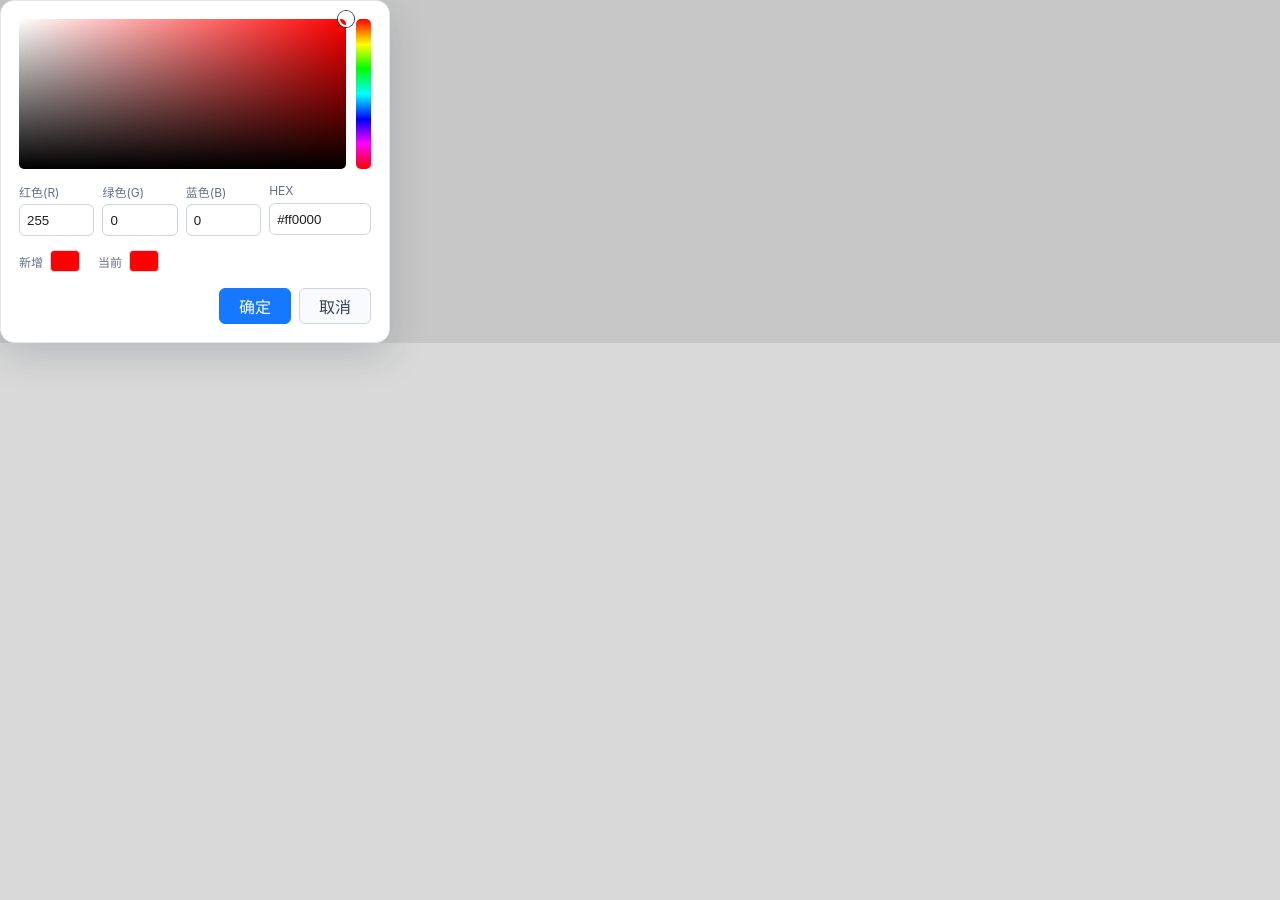
Scenario: ColorPicker › updates RGB values from a valid HEX edit
This screenshot has width=1280, height=900.
Replace the text in the field labelled "HEX" with "3366cc". click: (320,219)
box: [269,203,371,235]
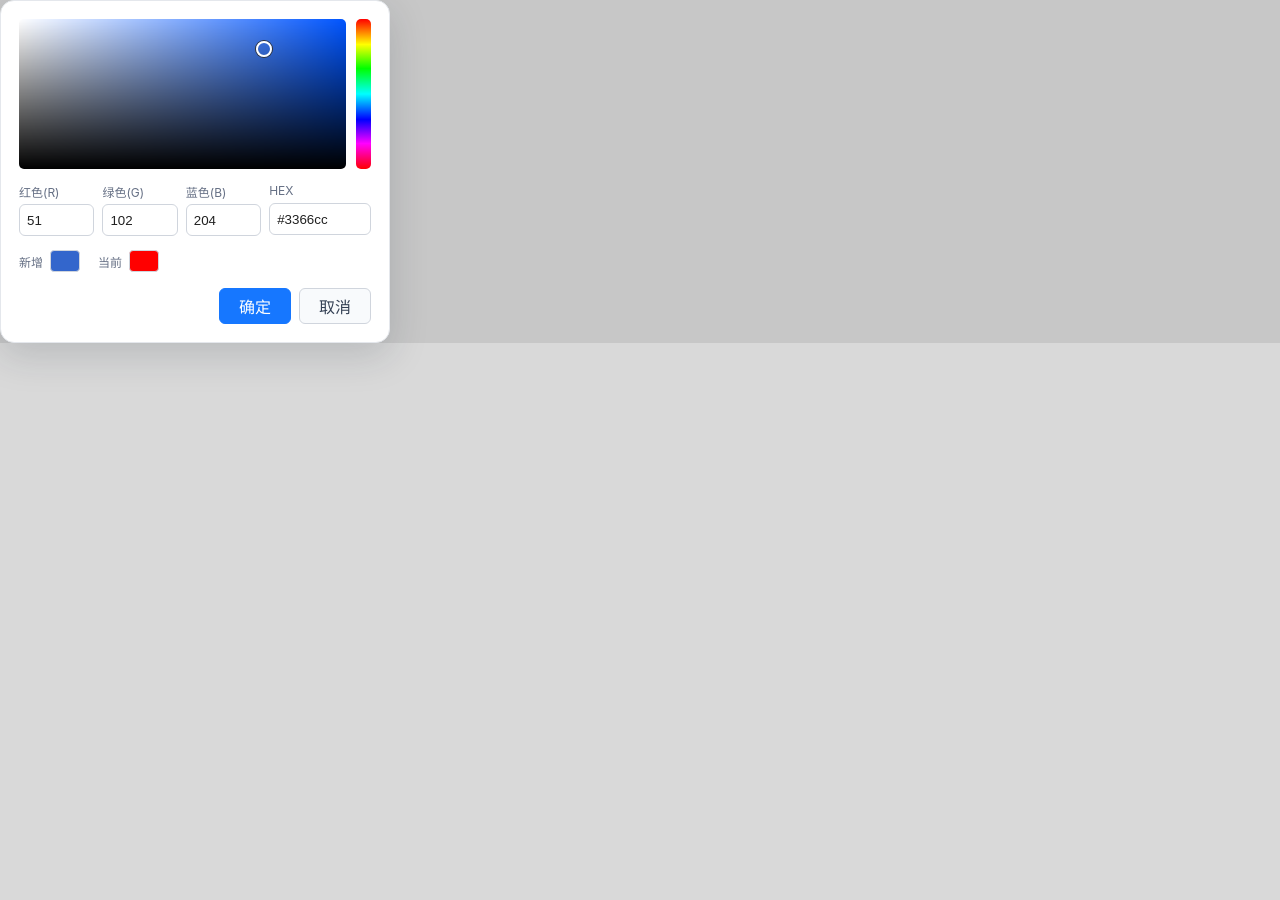
Result: the number field labelled "红色(R)" holds "51" at [19,204,94,236]
Result: the number field labelled "绿色(G)" holds "102" at [102,204,178,236]
Result: the number field labelled "蓝色(B)" holds "204" at [186,204,261,236]
